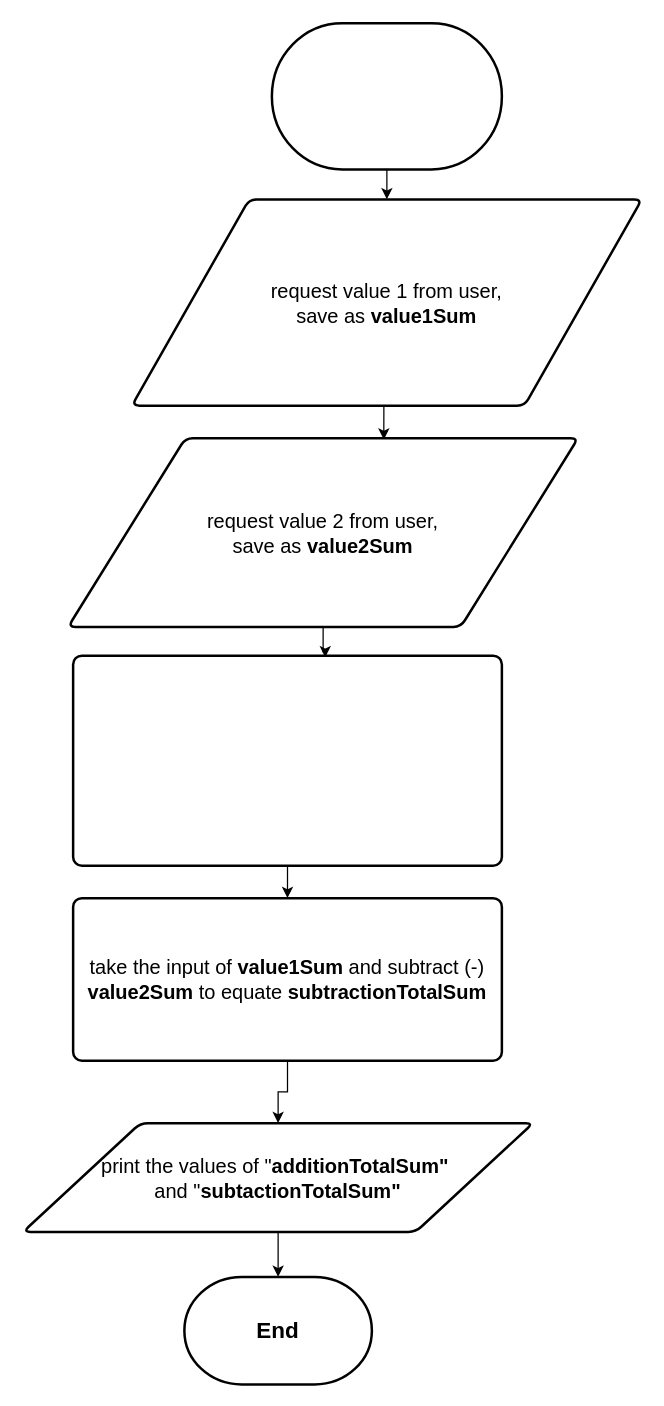
Some shapes in this 664 by 1406 pixel diagram are drawn without their labels. The shapes that lost their labels are listed below. From the top down, each one's box as (x1, y1, x2, y2) in pixels, then its label:
(270, 21, 502, 170): Start
(71, 654, 502, 866): take the input of value1Sum and add (+) value2Sum to equate additionTotalSum
